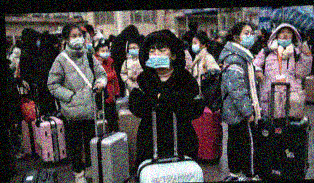mask_weared_incorrect: (278, 28, 292, 46), (83, 34, 94, 51)
with_mask: (148, 47, 173, 69), (68, 31, 85, 49), (239, 29, 255, 48), (191, 39, 202, 55), (128, 45, 139, 58), (100, 48, 110, 59)
